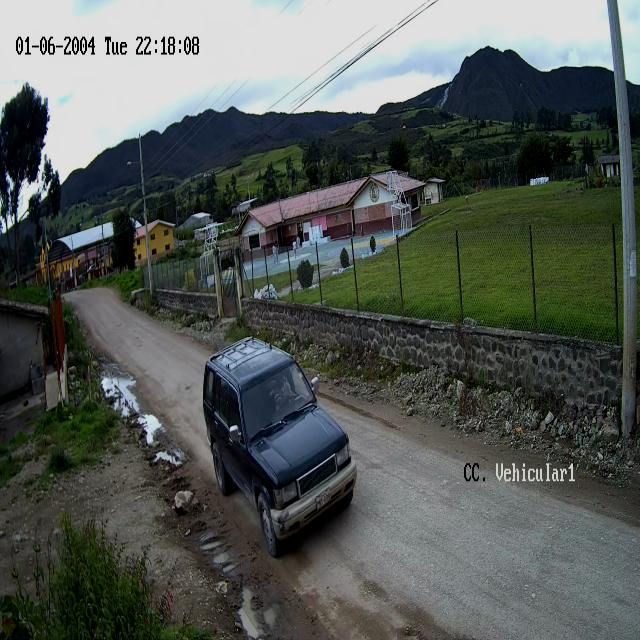SUV: (202, 340, 355, 558)
